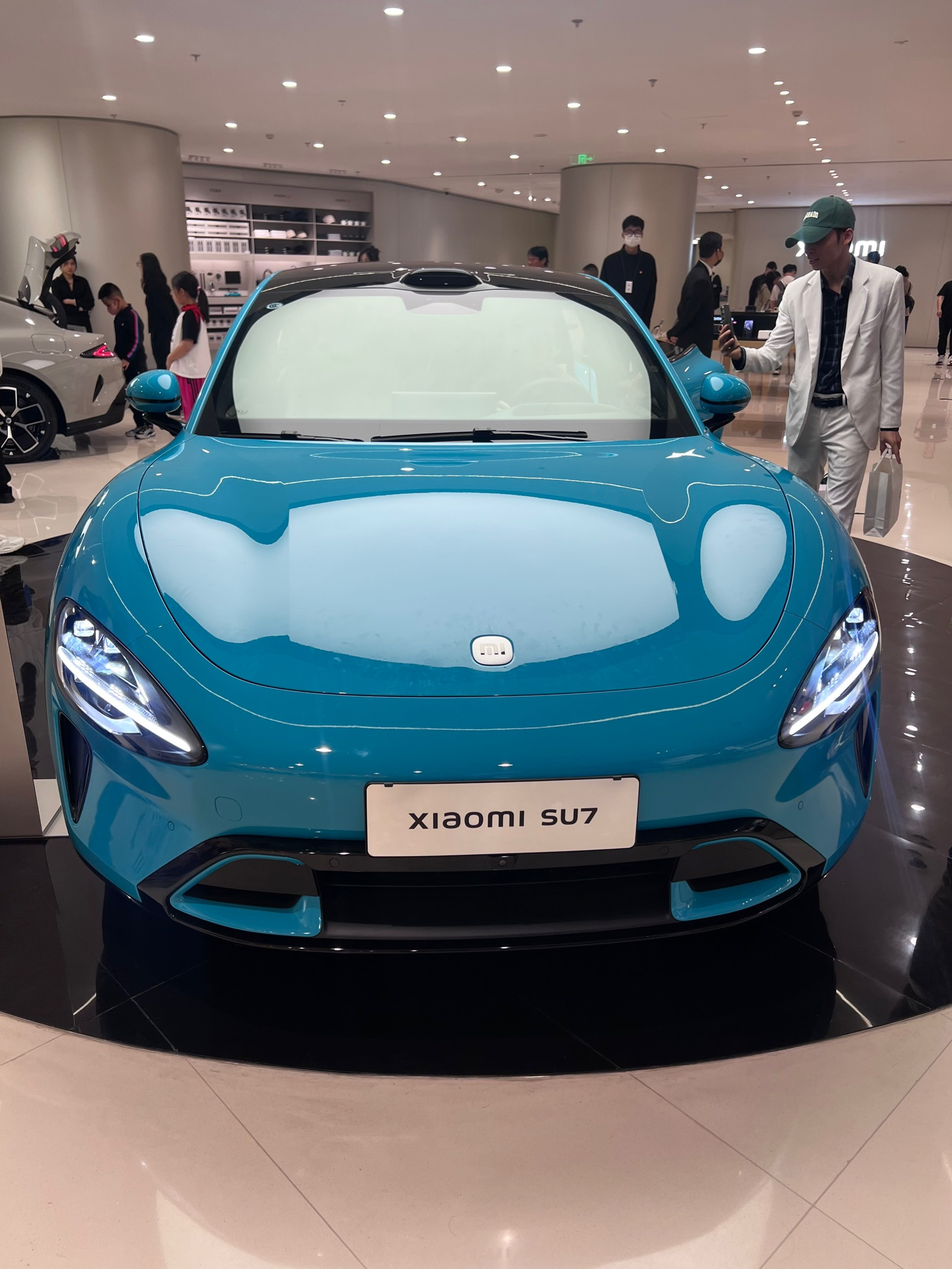su7: (72, 267, 884, 965)
